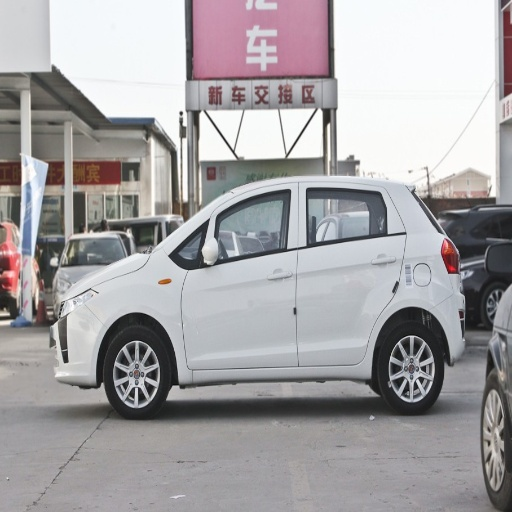back_left_door: (298, 185, 404, 364)
